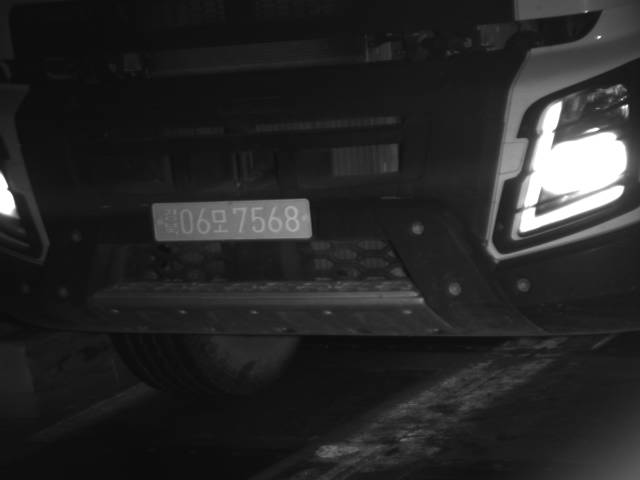car: (1, 1, 639, 398)
plate: (150, 197, 315, 242)
